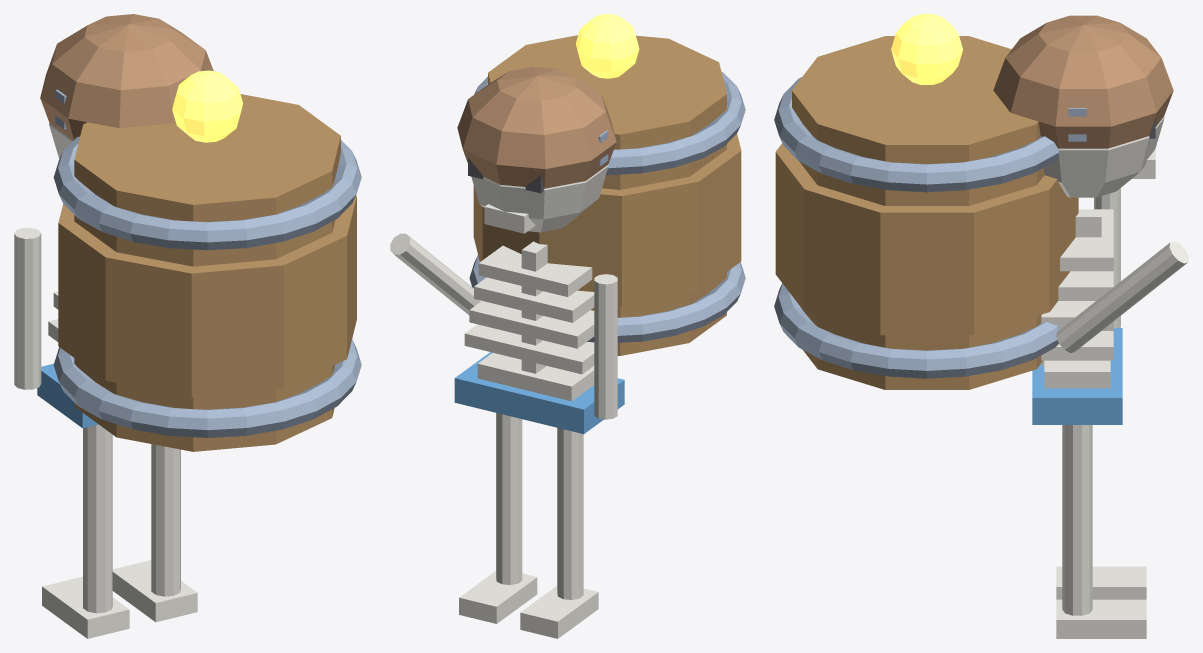
File: wall_breakers.glb
3 renders of one model, left to right at view 1: azimuth 30°, elevation 25°; view 2: azimuth 150°, elevation 25°; view 3: azimuth 270°, elevation 25°, orthographic. The views are drawn at different scales.
Visible parts, largest first — view 1: wall_breakers; view 2: wall_breakers; view 3: wall_breakers.
Boxes of the visible parts, left/top/right/bottom form: wall_breakers: left=14, top=14, right=361, bottom=638; wall_breakers: left=390, top=14, right=745, bottom=638; wall_breakers: left=774, top=14, right=1188, bottom=638.
Size of the model in its own units: 1.02 by 2.18 by 1.38.
